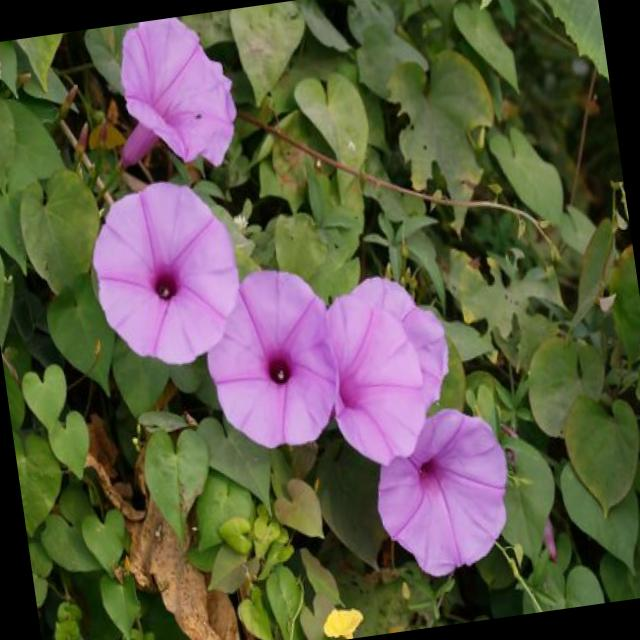ipomoea: (79, 168, 254, 380), (312, 264, 466, 475), (193, 258, 351, 460), (362, 398, 526, 588), (100, 10, 248, 185)
